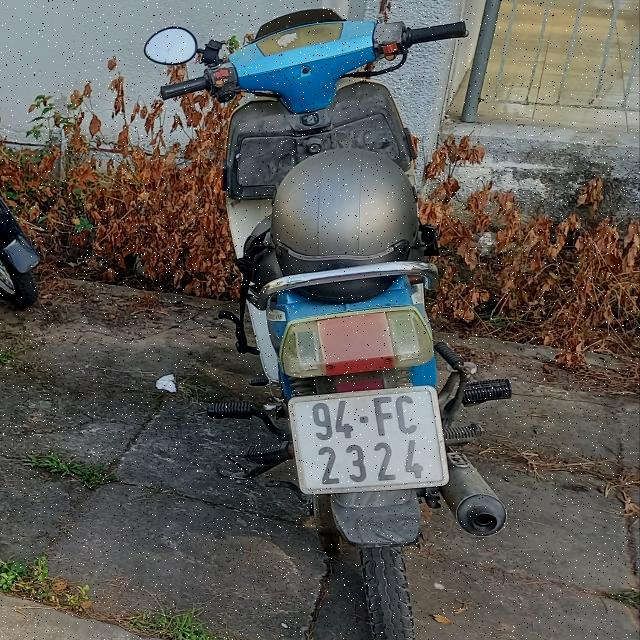2: (317, 446, 340, 484), (375, 442, 395, 480)
3: (346, 444, 367, 483)
4: (404, 438, 424, 478), (335, 398, 354, 440)
9: (311, 402, 333, 440)
C: (396, 396, 418, 434)
F: (372, 396, 392, 435)
